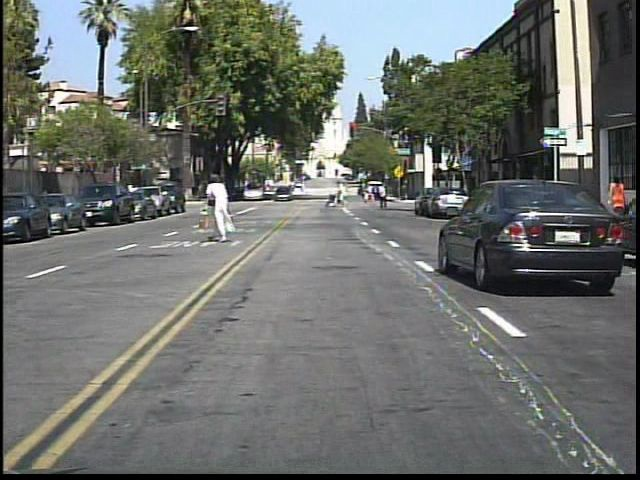person: (200, 169, 241, 249), (607, 167, 631, 231), (500, 169, 520, 219), (376, 180, 392, 211), (337, 180, 350, 210)
